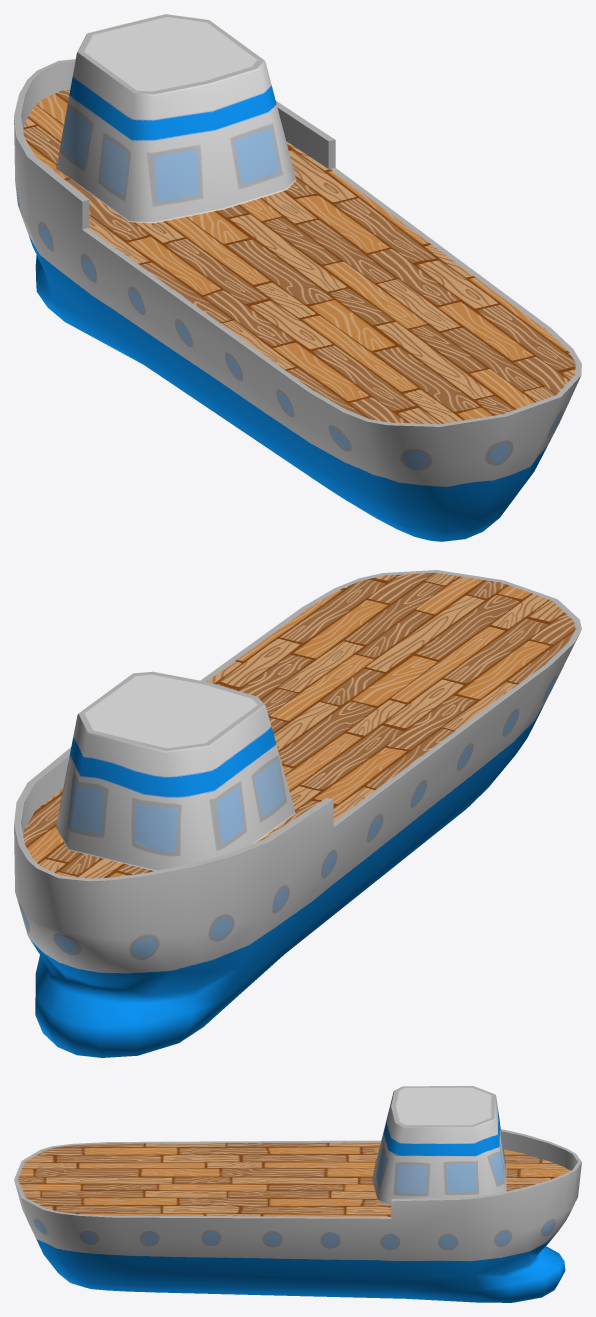
Rendered from boat2.fbx.
3 views of the same model, one above another, from view 1: azimuth 30°, elevation 25°; view 2: azimuth 150°, elevation 25°; view 3: azimuth 270°, elevation 25° (orthographic). The views are drawn at different scales.
Parts seen in each view (by area): view 1: boat; view 2: boat; view 3: boat.
Boxes of the visible parts, x1,y1,x2,y2 form: boat: (14,14,581,541); boat: (14,570,581,1057); boat: (14,1086,581,1302).
Bounding box in the file's own units: 1306 × 1440 × 3996.
1 material, 1 textured.
